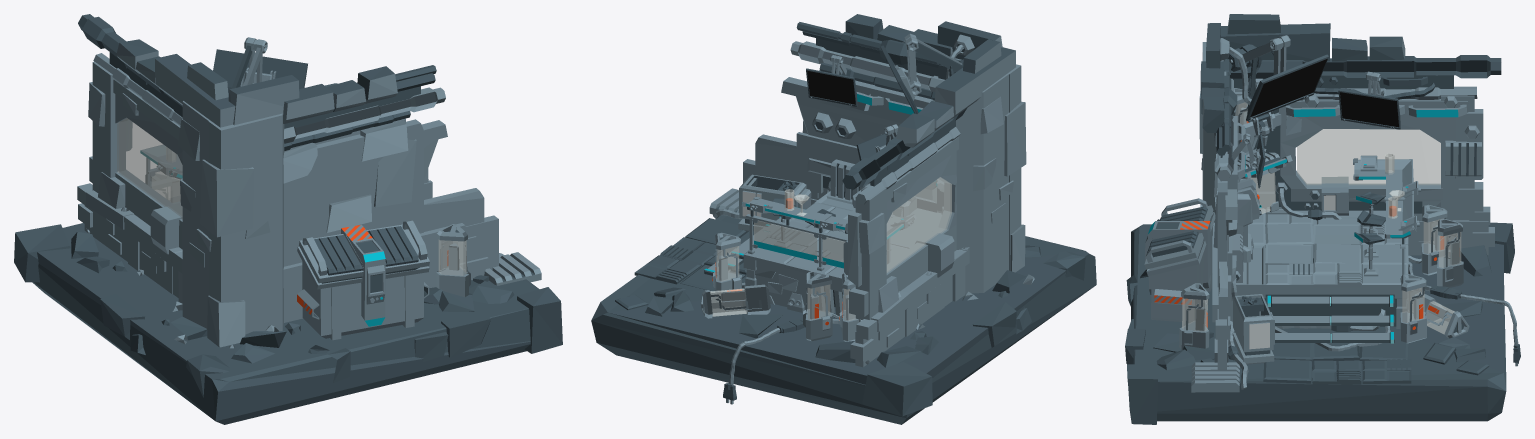
File: bar.glb
3 views of the same model, side by side, from view 1: azimuth 30°, elevation 25°; view 2: azimuth 150°, elevation 25°; view 3: azimuth 270°, elevation 25° (orthographic). The views are drawn at different scales.
Parts seen in each view (by area): view 1: group242279844, group54319398; view 2: group242279844, group54319398; view 3: group242279844, group54319398.
Part boxes in pixels (<box>): group242279844: <box>14,14,562,424</box>; group54319398: <box>117,118,466,275</box>; group242279844: <box>591,14,1096,424</box>; group54319398: <box>710,177,951,320</box>; group242279844: <box>1125,14,1520,424</box>; group54319398: <box>1182,102,1461,334</box>.
Size of the model in its own units: 5.97 by 4.96 by 6.
2 materials, 2 textured.
